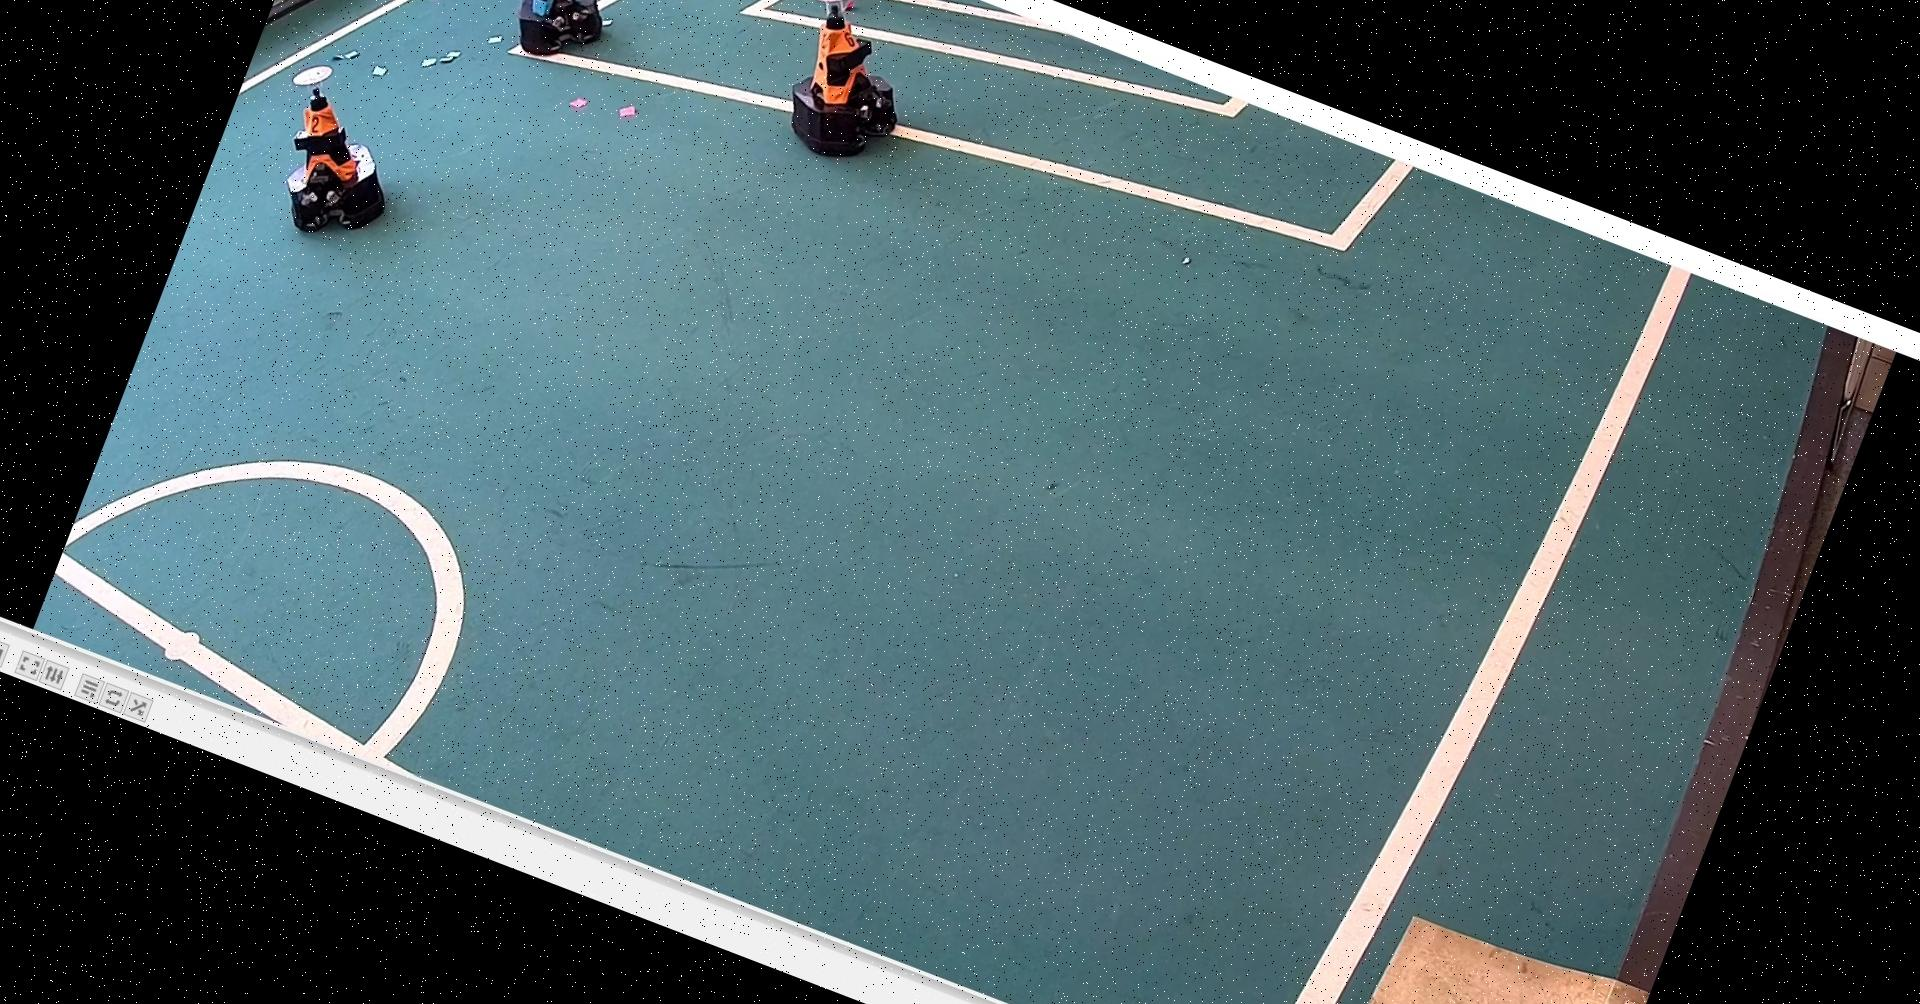Team_Blue: (483, 0, 646, 84)
Team_Red: (243, 52, 427, 256), (759, 0, 941, 178)
